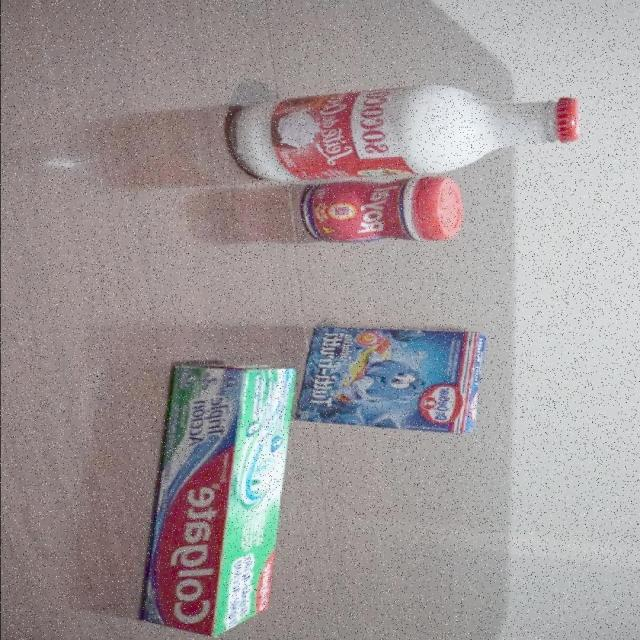CoconutMilk: (231, 93, 584, 180)
Gelatine: (309, 326, 482, 438)
Toothpaste: (137, 362, 295, 640)
Yeast: (297, 177, 467, 244)
